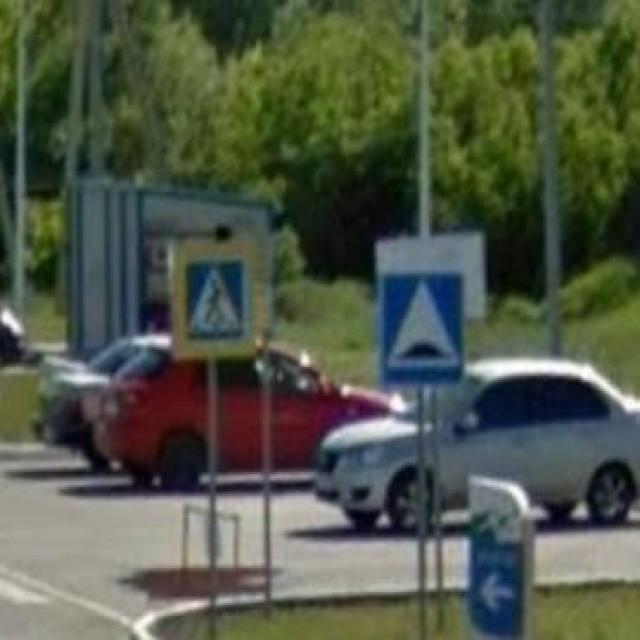Przejscie dla pieszych: (171, 236, 265, 362)
